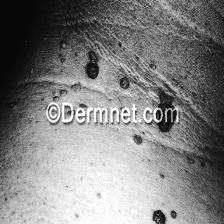Benign Marking or Mole: (156, 94, 179, 132), (80, 50, 106, 80), (148, 202, 180, 224), (59, 83, 81, 97), (120, 70, 130, 91), (132, 134, 144, 146)
